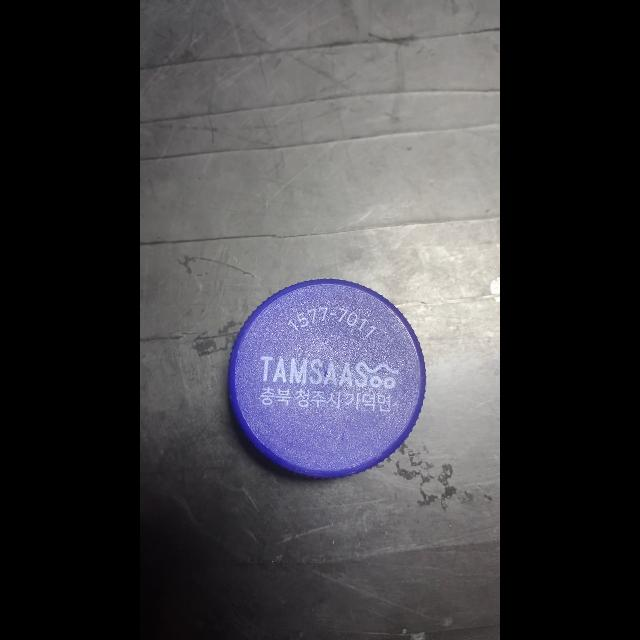plastic_bottle_cap: (223, 272, 432, 486)
